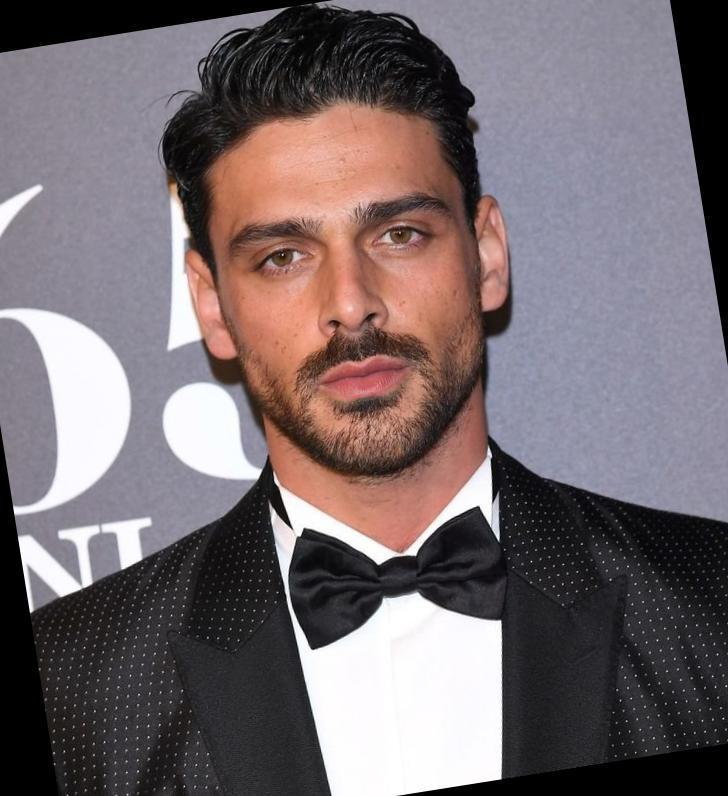Sober: (204, 144, 489, 444)
